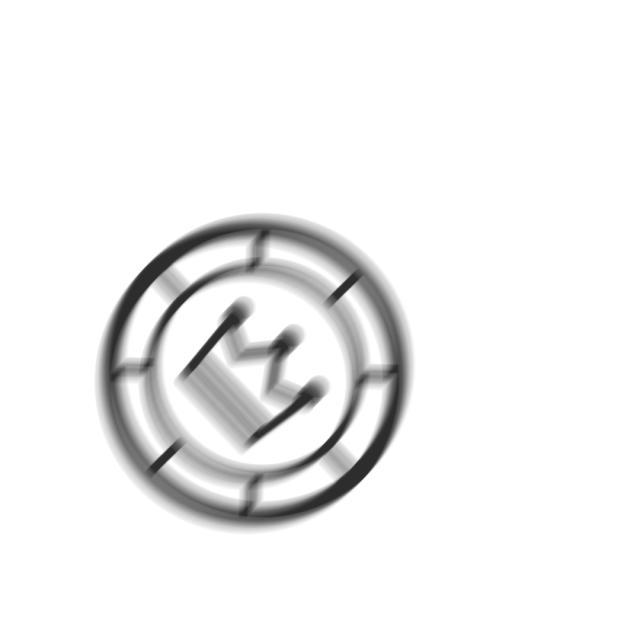coin: (94, 208, 418, 535)
